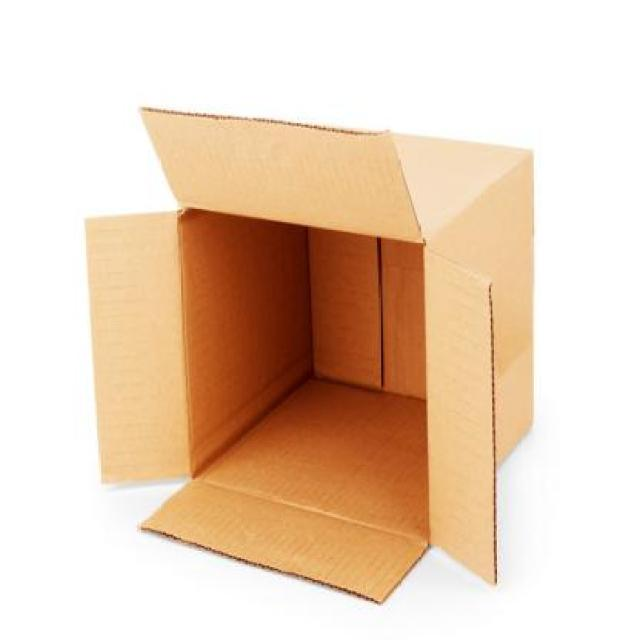box: (77, 66, 566, 608)
